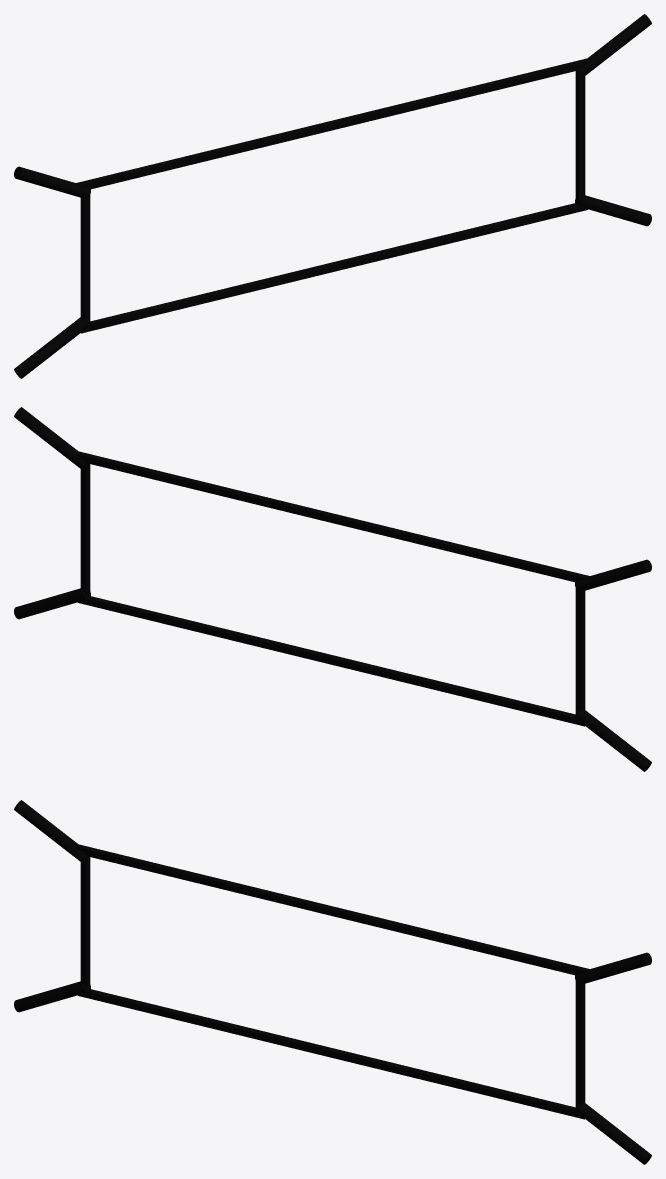
File: net2.glb
3 views of the same model, one above another, from view 1: azimuth 30°, elevation 25°; view 2: azimuth 150°, elevation 25°; view 3: azimuth 330°, elevation 25° (orthographic).
Visible parts, largest first — view 1: Cylinder.003; view 2: Cylinder.003; view 3: Cylinder.003.
Boxes of the visible parts, bbox=[...] form: Cylinder.003: bbox=[14, 14, 651, 378]; Cylinder.003: bbox=[14, 407, 651, 771]; Cylinder.003: bbox=[14, 800, 651, 1164].
Size of the model in its own units: 206 by 65.49 by 3.55.
1 material, 1 textured.
